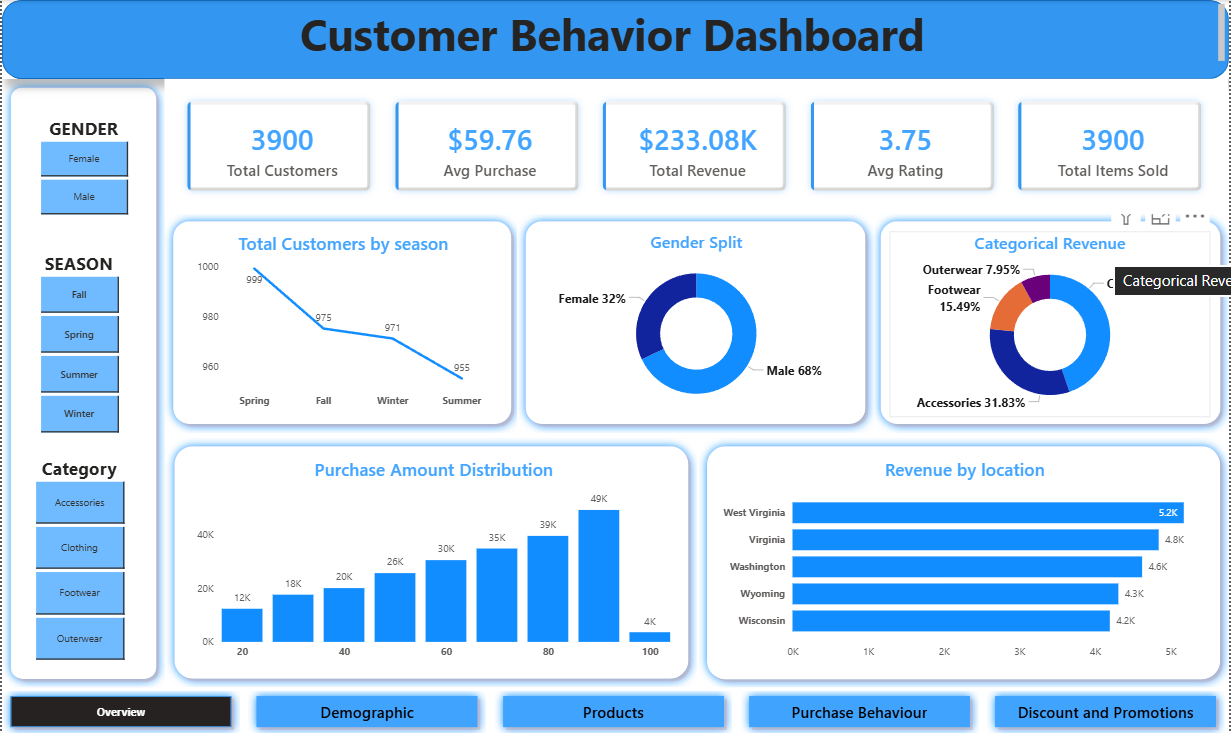

This screenshot's page, from the dashboard's own definition file:
{"tool":"powerbi","page":{"name":"Overview","canvas":[1500,900],"ordinal":0},"visuals":[{"type":"shape","box":[199.5,259.3,434.8,269.3],"z":0},{"type":"shape","box":[0,96.5,199.4,744.5],"z":1000},{"type":"shape","box":[1063.2,259.3,436.8,269.3],"z":2000},{"type":"shape","box":[0,0,1500.3,96.5],"z":3000},{"type":"shape","box":[200,535.6,649.9,305.7],"z":4000},{"type":"shape","box":[630.3,259.3,436.8,269.3],"z":5000},{"type":"shape","box":[851.1,534.8,648.9,306.5],"z":6000},{"type":"clusteredBarChart","title":"Revenue by location","fields":{"Category":["customer.location"],"Y":["customer.Total_Revenue"]},"box":[875.5,559.2,603.3,256],"z":7000},{"type":"columnChart","title":"Purchase Amount Distribution","fields":{"Category":["customer.purchase_amount (bins)"],"Y":["Sum(customer.purchase_amount)"]},"box":[234.2,559.9,588.5,255.7],"z":8000},{"type":"donutChart","title":"Categorical Revenue","fields":{"Category":["customer.category"],"Y":["customer.Total_Revenue"]},"box":[1085.1,283.2,393,227.4],"z":9000},{"type":"donutChart","title":"Gender Split","fields":{"Category":["customer.gender"],"Y":["customer.Total_Customers"]},"box":[652.3,281.2,393,227.4],"z":10000},{"type":"lineChart","title":"Total Customers by season","fields":{"Category":["customer.season"],"Y":["customer.Total_Customers"]},"box":[233.9,282.3,367.5,225.5],"z":11000},{"type":"slicer","title":"SEASON","fields":{"Values":["customer.season"]},"box":[21.7,307.3,145.3,228.8],"z":12000},{"type":"slicer","title":"GENDER","fields":{"Values":["customer.gender"]},"box":[21.7,142,157,126.9],"z":13000},{"type":"textbox","box":[0,0,1500.3,80.4],"z":14000},{"type":"slicer","title":"Category","fields":{"Values":["customer.category"]},"box":[15.7,558.5,158.5,255.7],"z":15000},{"type":"cardVisual","fields":{"Data":["customer.Total_Customers","customer.Avg_Purchase_Amount","customer.Total_Revenue","customer.Avg_Review_Rating","customer.Total_Items_Sold"]},"box":[199.4,96.5,1300.9,165.6],"z":16000},{"type":"pageNavigator","box":[0,840.7,1499.5,59.6],"z":17000}]}

Visuals, with their boxes in screenshot pixels (x1, y1, x2, y2), scaled from the page's 1500x900 canvas onto the 1231x733 screenshot:
shape: box=[164, 211, 521, 431]
shape: box=[0, 79, 164, 685]
shape: box=[873, 211, 1230, 431]
shape: box=[0, 0, 1230, 79]
shape: box=[164, 436, 697, 685]
shape: box=[517, 211, 876, 431]
shape: box=[698, 436, 1230, 685]
"Revenue by location" clusteredBarChart: box=[718, 455, 1214, 664]
"Purchase Amount Distribution" columnChart: box=[192, 456, 675, 664]
"Categorical Revenue" donutChart: box=[891, 231, 1213, 416]
"Gender Split" donutChart: box=[535, 229, 858, 414]
"Total Customers by season" lineChart: box=[192, 230, 494, 414]
"SEASON" slicer: box=[18, 250, 137, 437]
"GENDER" slicer: box=[18, 116, 147, 219]
textbox: box=[0, 0, 1230, 65]
"Category" slicer: box=[13, 455, 143, 663]
cardVisual - customer.Total_Customers x customer.Avg_Purchase_Amount: box=[164, 79, 1230, 213]
pageNavigator: box=[0, 685, 1230, 732]
